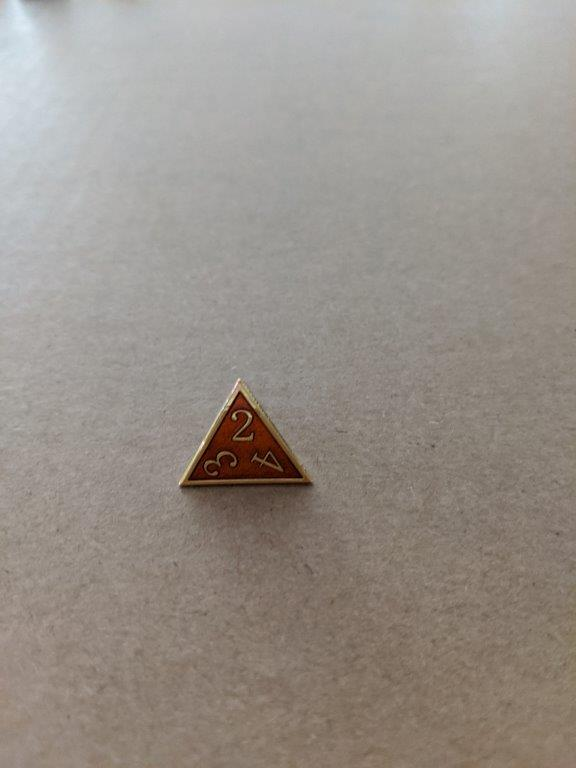d4-2: (175, 373, 321, 493)
